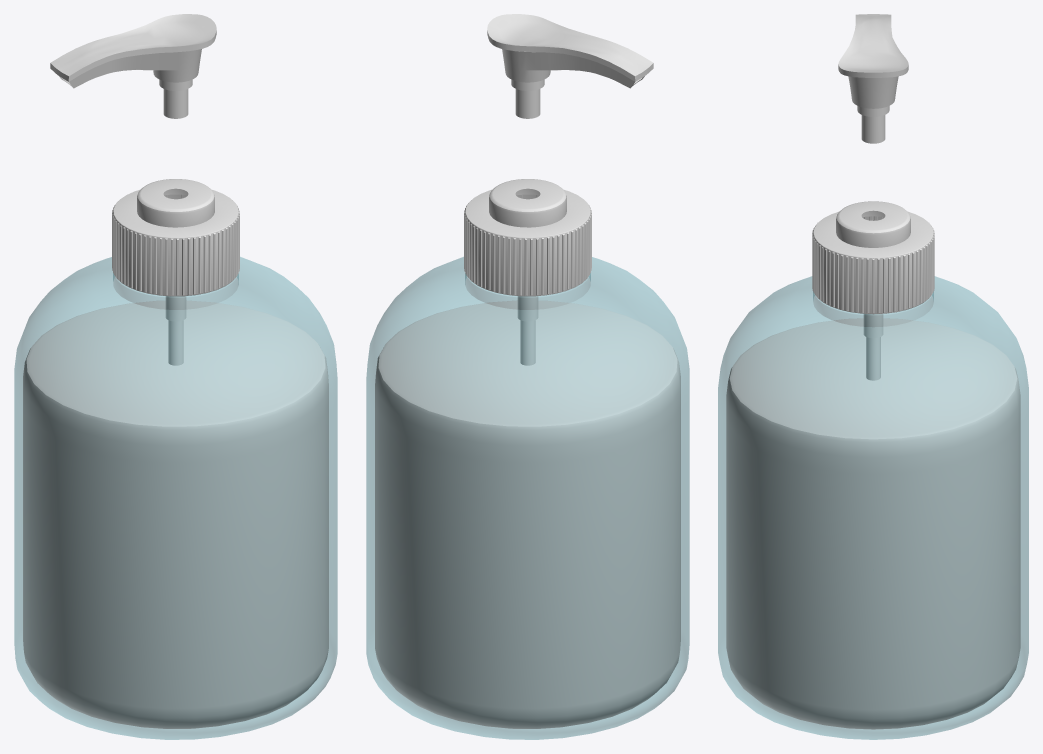
The model's file is handrub.fbx.
3 renders of one model, left to right at view 1: azimuth 30°, elevation 25°; view 2: azimuth 150°, elevation 25°; view 3: azimuth 270°, elevation 25°, orthographic. The views are drawn at different scales.
Visible parts, largest first — view 1: Cylinder, Cylinder.002, Cylinder.001; view 2: Cylinder, Cylinder.002, Cylinder.001; view 3: Cylinder, Cylinder.002, Cylinder.001.
Boxes of the visible parts, x1=… form: Cylinder: x1=14, y1=179, x2=337, y2=739; Cylinder.002: x1=23, y1=300, x2=328, y2=728; Cylinder.001: x1=50, y1=14, x2=216, y2=118; Cylinder: x1=366, y1=179, x2=689, y2=739; Cylinder.002: x1=375, y1=300, x2=680, y2=728; Cylinder.001: x1=487, y1=14, x2=653, y2=118; Cylinder: x1=718, y1=201, x2=1028, y2=739; Cylinder.002: x1=726, y1=318, x2=1020, y2=729; Cylinder.001: x1=838, y1=14, x2=908, y2=143.
Size of the model in its own units: 241 by 539 by 241.
